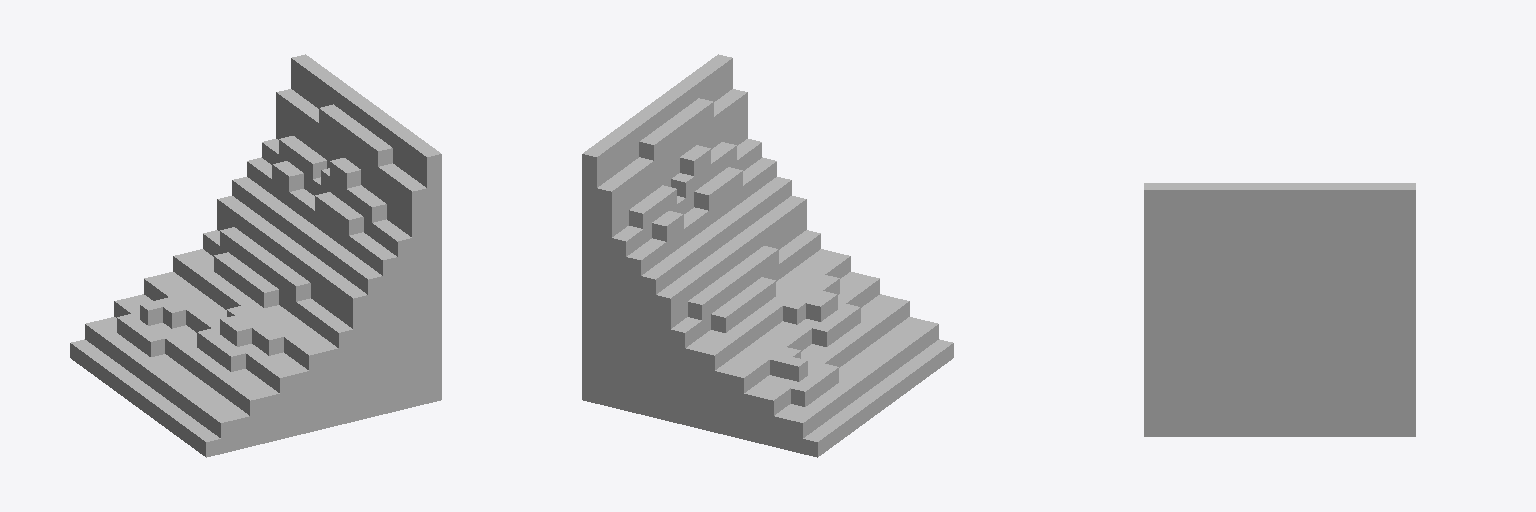
File: civ_slope_2.obj
3 views of the same model, side by side, from view 1: azimuth 30°, elevation 25°; view 2: azimuth 150°, elevation 25°; view 3: azimuth 270°, elevation 25° (orthographic).
Visible parts, largest first — view 1: grassyslope.001; view 2: grassyslope.001; view 3: grassyslope.001.
Part boxes in pixels (x1,y1,x2,y2): grassyslope.001: (70,54,441,457); grassyslope.001: (582,54,953,457); grassyslope.001: (1144,183,1415,436).
Size of the model in its own units: 1 by 1 by 1.